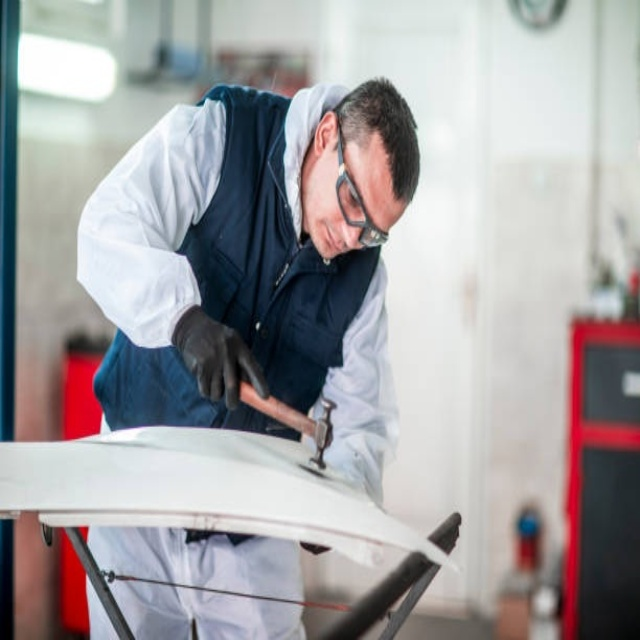Gafas: (335, 117, 389, 250)
Guantes: (172, 306, 268, 412)
Sin_mascara: (315, 212, 345, 259)
